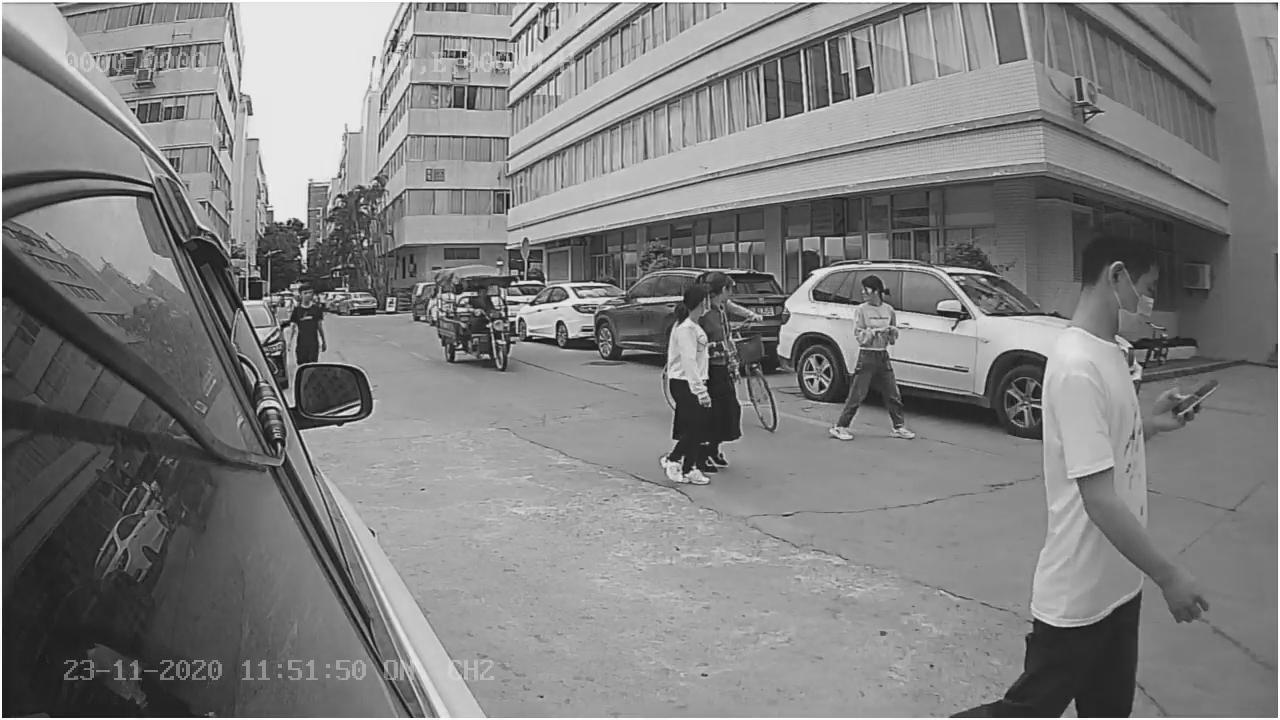person: (651, 284, 733, 483), (833, 271, 920, 446)
